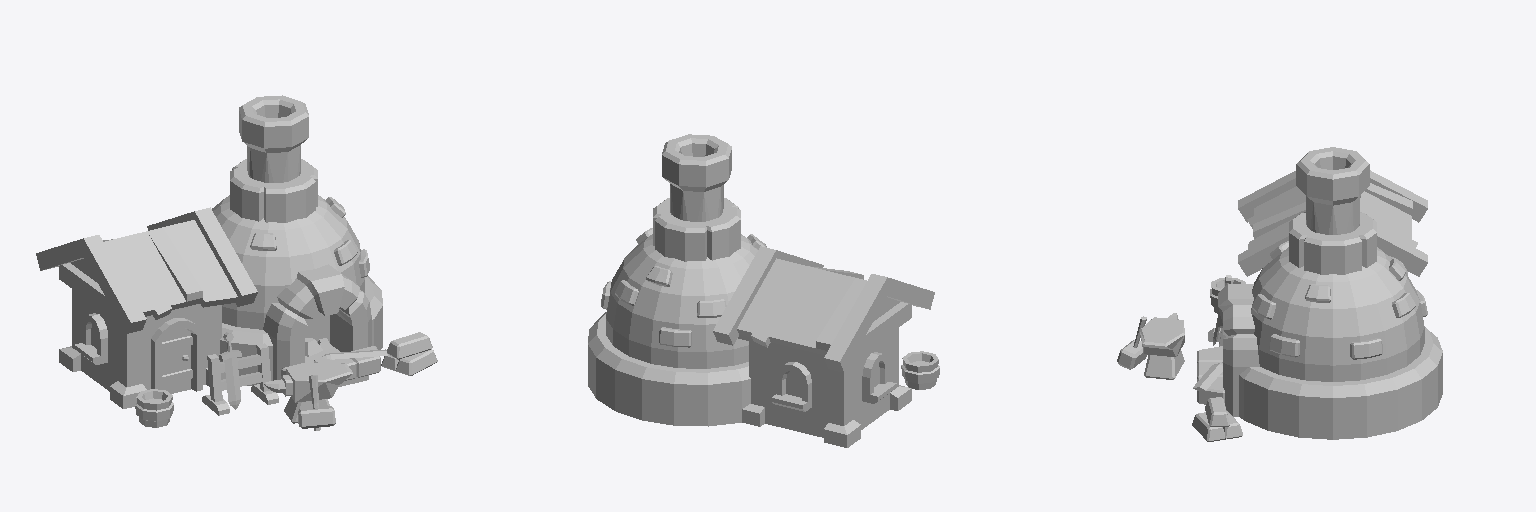
File: building_blacksmith_red.obj
3 views of the same model, side by side, from view 1: azimuth 30°, elevation 25°; view 2: azimuth 150°, elevation 25°; view 3: azimuth 270°, elevation 25° (orthographic).
Parts seen in each view (by area): view 1: building_blacksmith_red; view 2: building_blacksmith_red; view 3: building_blacksmith_red.
Boxes of the visible parts, x1=… form: building_blacksmith_red: x1=36, y1=95, x2=437, y2=430; building_blacksmith_red: x1=588, y1=134, x2=939, y2=447; building_blacksmith_red: x1=1117, y1=147, x2=1442, y2=441.
Size of the model in its own units: 1.29 by 0.9851 by 1.25.